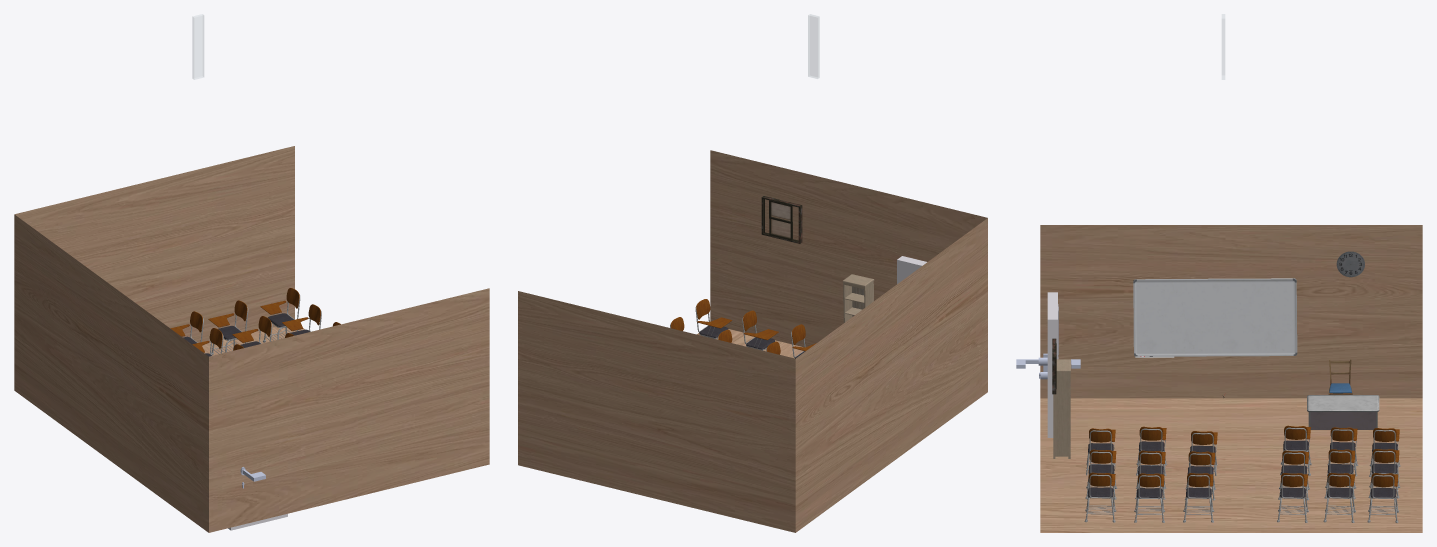
Rendered from KELAS;.compressed.glb.
The picture shows the model from 3 angles, left to right: view 1: azimuth 30°, elevation 25°; view 2: azimuth 150°, elevation 25°; view 3: azimuth 270°, elevation 25°; orthographic projection.
Parts seen in each view (by area): view 1: Cube, Object_2, Door_Glasses_0; view 2: Cube, Object_2, Object_2.018, Door_Glasses_0, f__0; view 3: Cube, Object_2, WhiteBoard_low__0, BDrawer_low__0, Object_2.018, Door_Door_0, Circle.016_0, defaultMaterial.001.
Part boxes in pixels (bbox=[...]): Cube: bbox=[14, 146, 489, 532]; Object_2: bbox=[170, 288, 340, 356]; Door_Glasses_0: bbox=[192, 14, 203, 79]; Cube: bbox=[518, 150, 987, 532]; Object_2: bbox=[670, 299, 816, 358]; Object_2.018: bbox=[842, 274, 874, 322]; Door_Glasses_0: bbox=[808, 14, 819, 78]; f__0: bbox=[761, 196, 802, 243]; Cube: bbox=[1040, 225, 1422, 532]; Object_2: bbox=[1084, 425, 1400, 522]; WhiteBoard_low__0: bbox=[1133, 278, 1297, 356]; BDrawer_low__0: bbox=[1307, 395, 1379, 429]; Object_2.018: bbox=[1053, 359, 1070, 458]; Door_Door_0: bbox=[1047, 292, 1057, 437]; Circle.016_0: bbox=[1336, 251, 1364, 277]; defaultMaterial.001: bbox=[1328, 359, 1352, 394].
Size of the model in its own units: 20 by 29.64 by 25.5.
19 materials, 11 textured.
